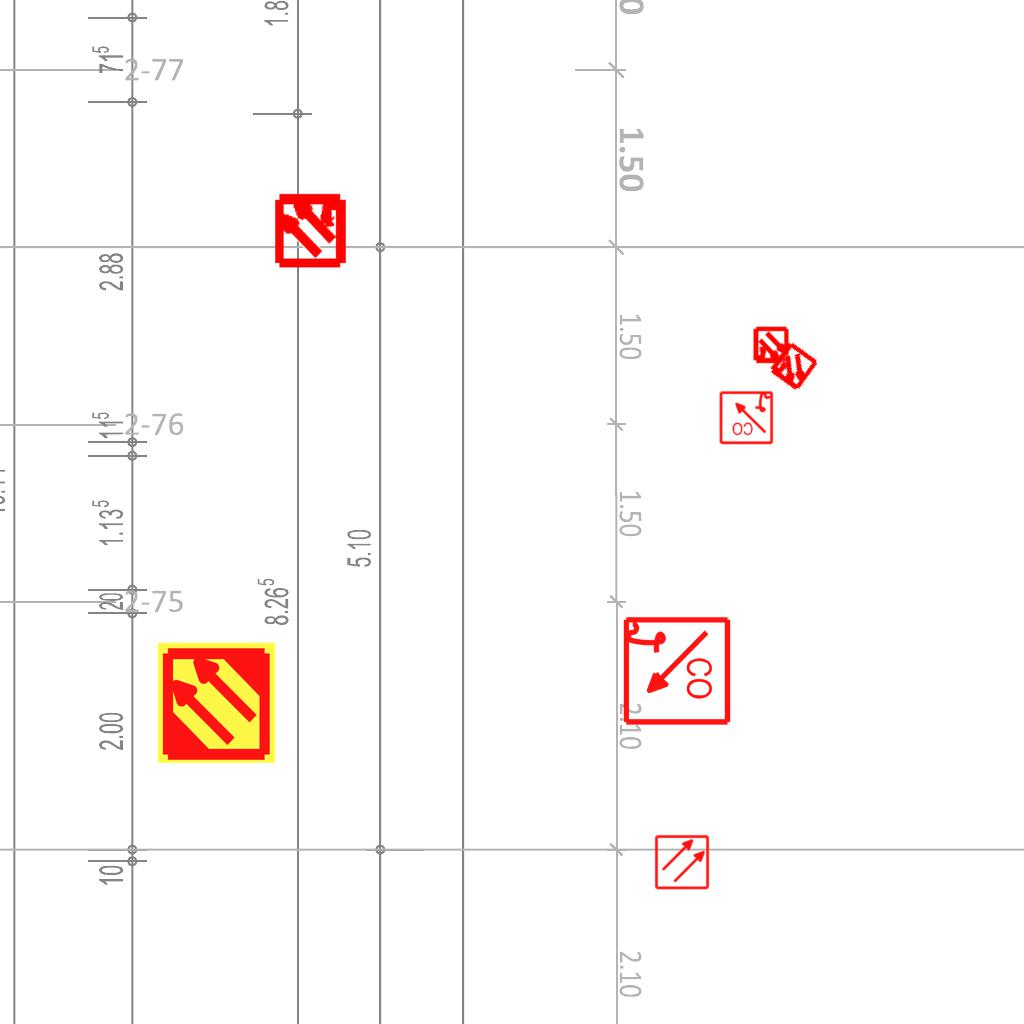ASR_Ansaugrauchmelder: (154, 640, 279, 765)
OT_Multisensormelder_(Kombination_RMO_WMD): (254, 172, 367, 285), (753, 327, 833, 407), (743, 318, 799, 374)
RMO_Rauchmelder_optischer: (654, 834, 710, 890)
ROA_Rauchmelder_optisch_mit_Signalgeber_(Sockelsirene): (619, 615, 732, 728), (718, 389, 774, 445)
